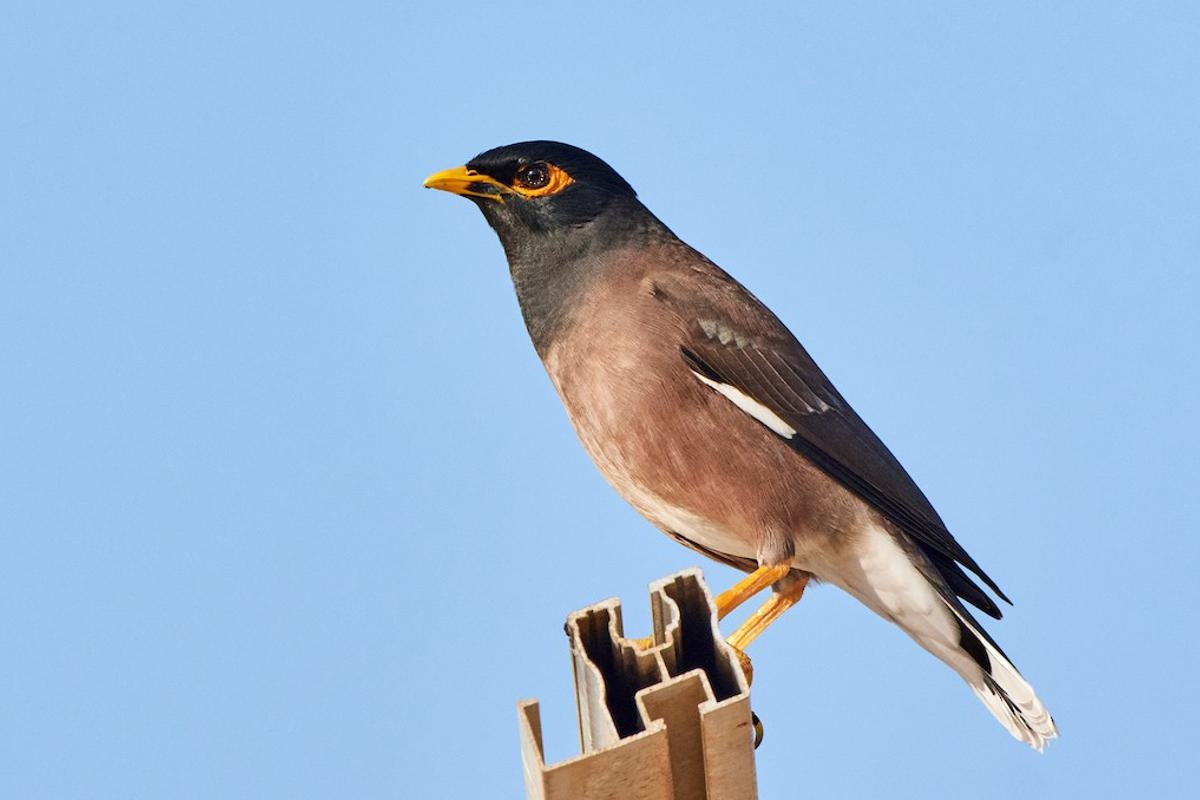myna: (390, 96, 1078, 733)
